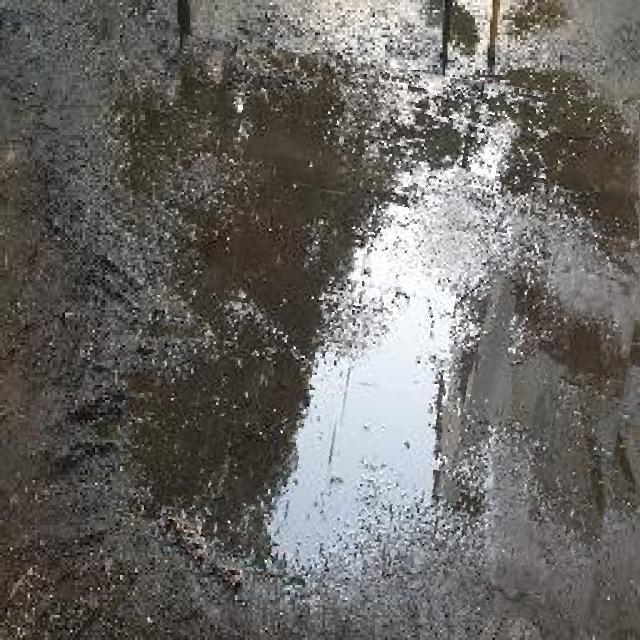puddle: (122, 52, 640, 606)
